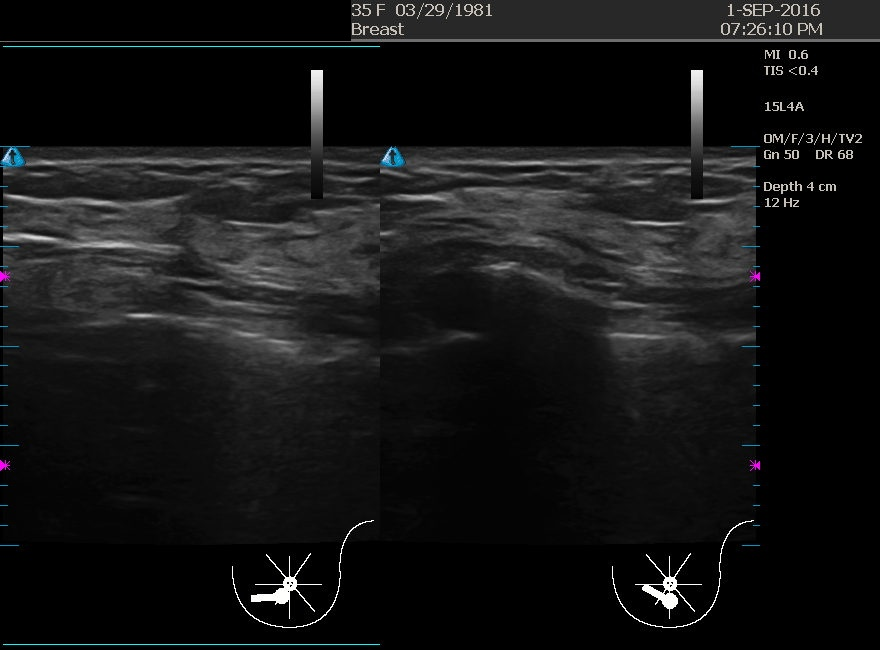BIRADS_3: (485, 175, 685, 376), (109, 174, 309, 374)
